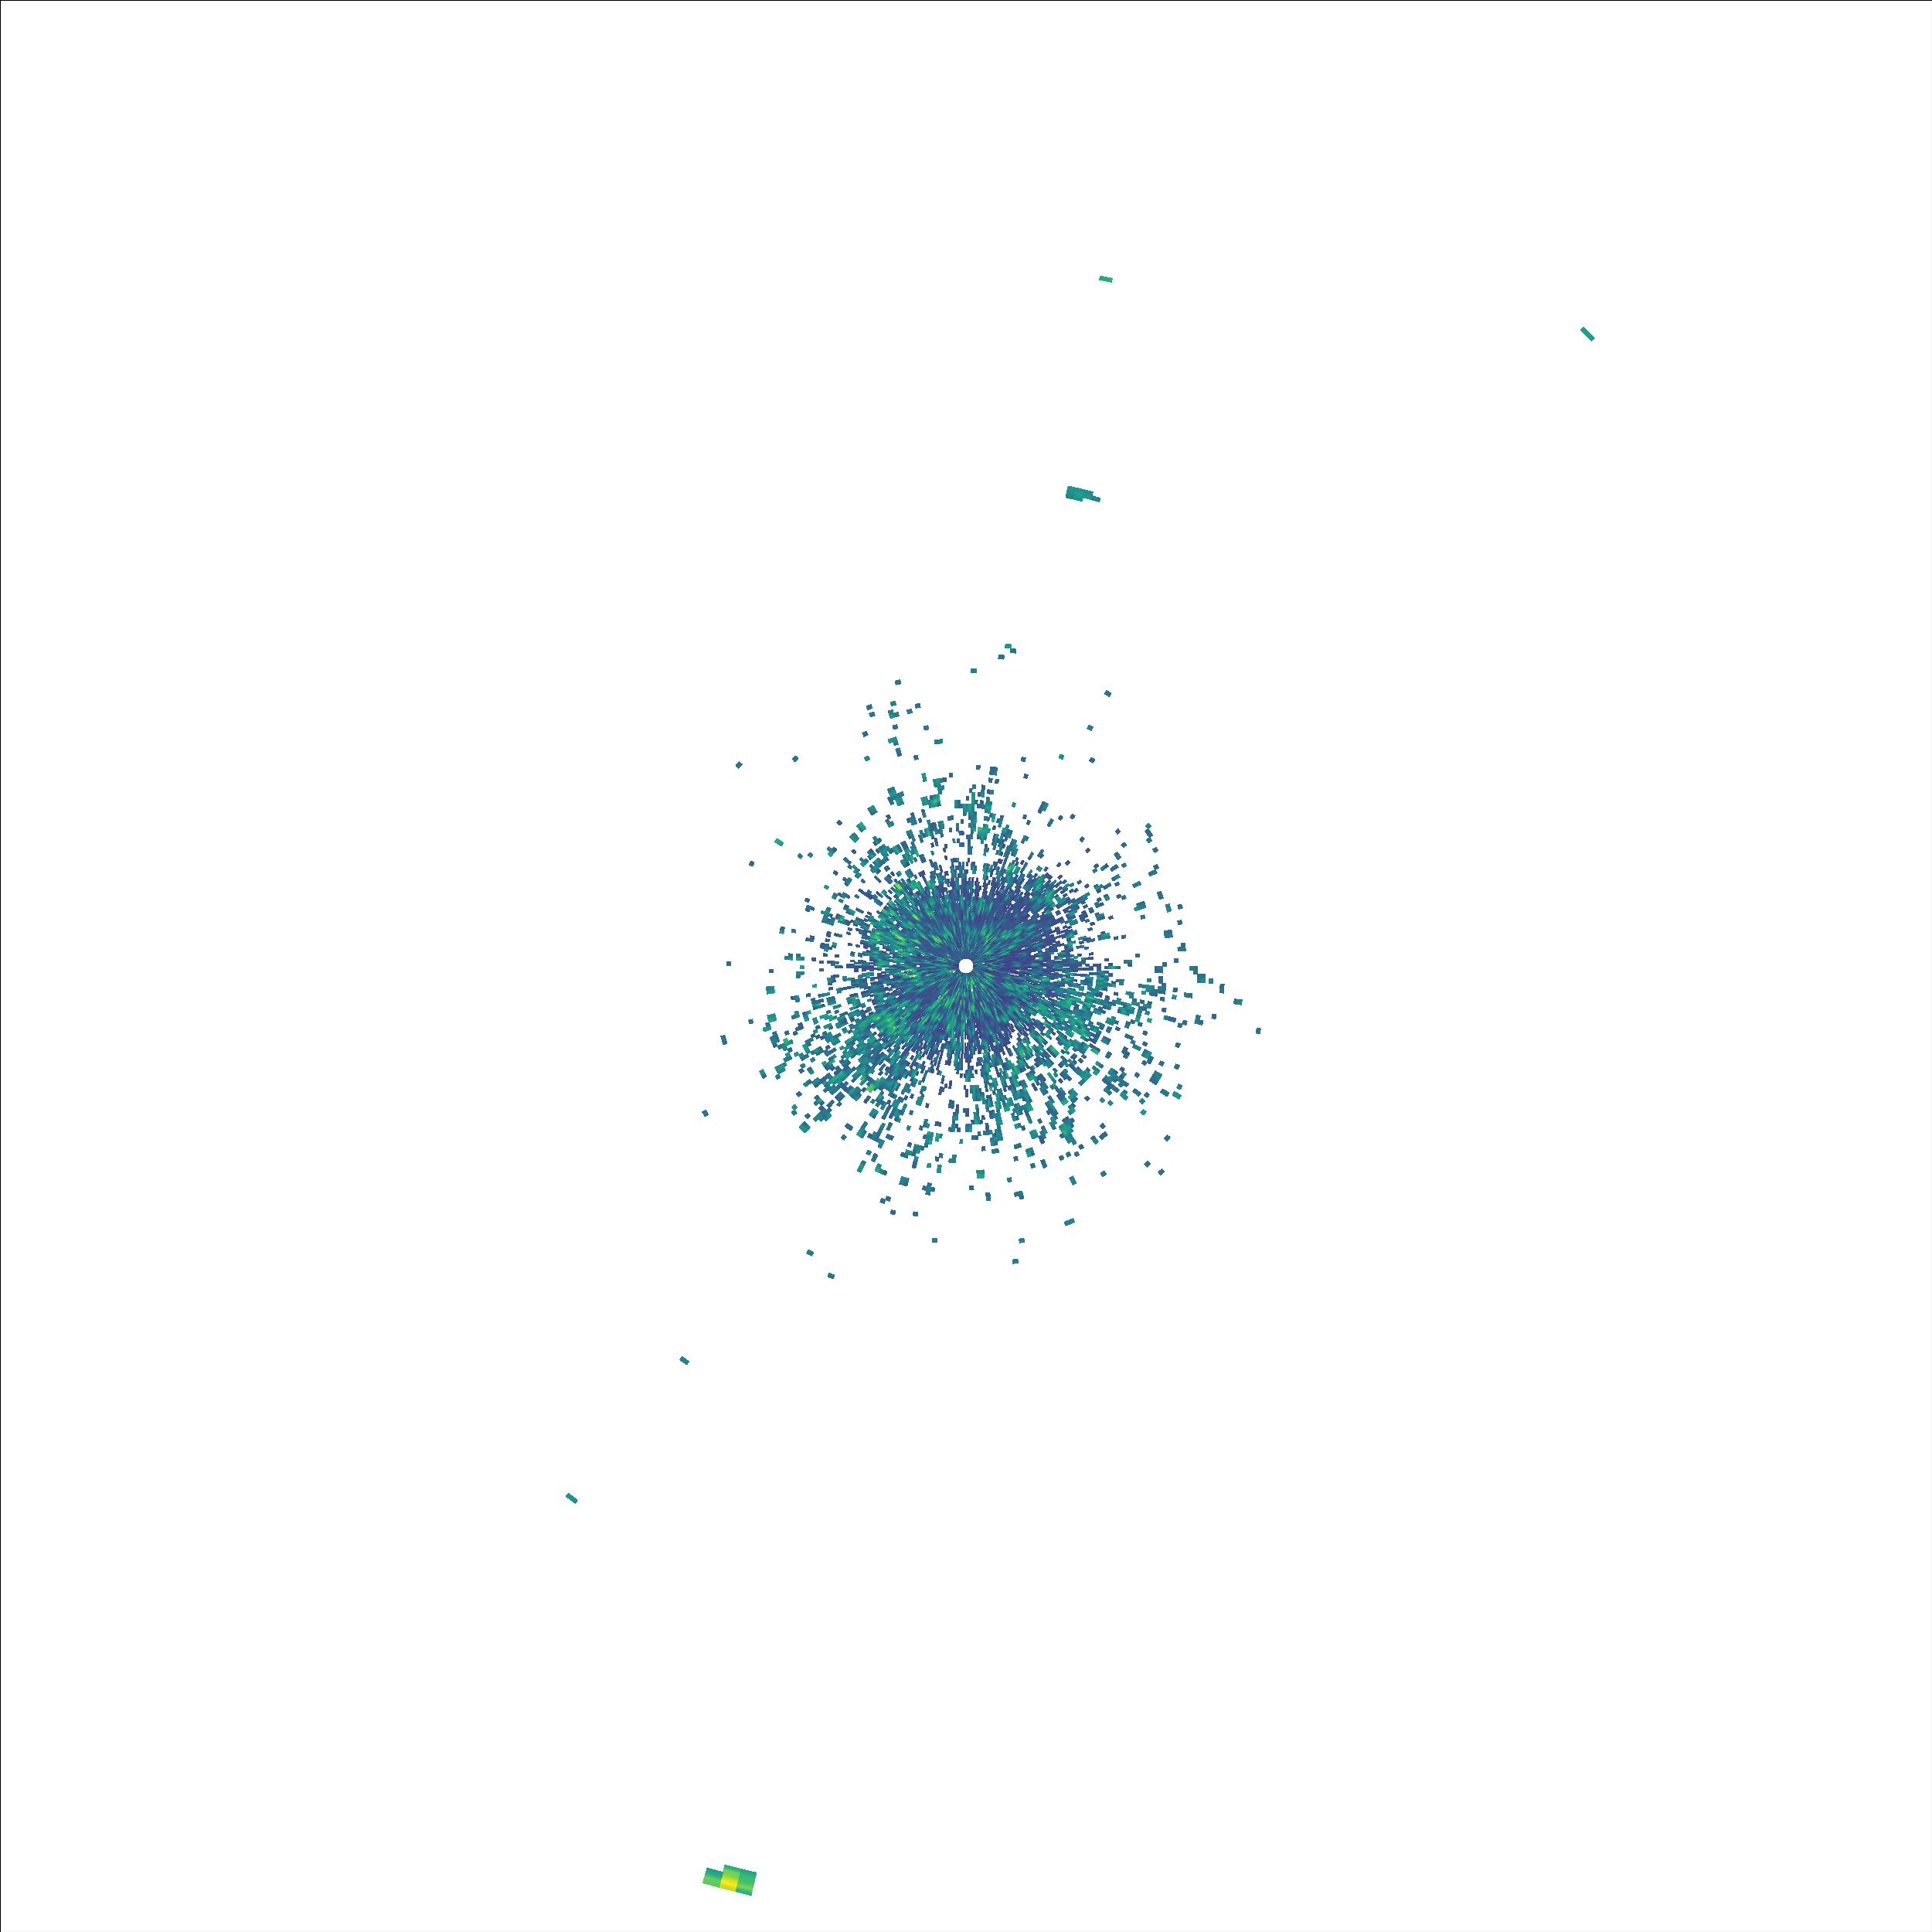fall: (1077, 485, 1106, 508)
